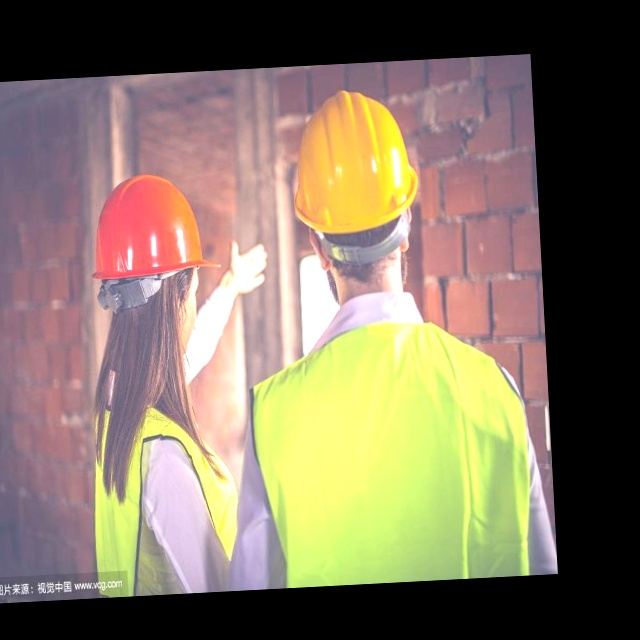Con_Casco: (287, 84, 424, 280), (86, 172, 225, 350)
Con_Chaleco: (240, 326, 541, 590), (88, 390, 244, 598)
